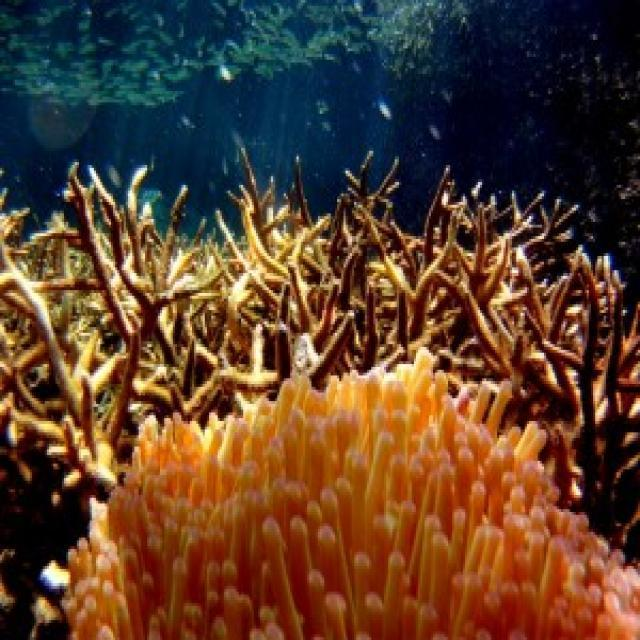Healthy: (2, 158, 640, 528), (65, 359, 640, 637)
